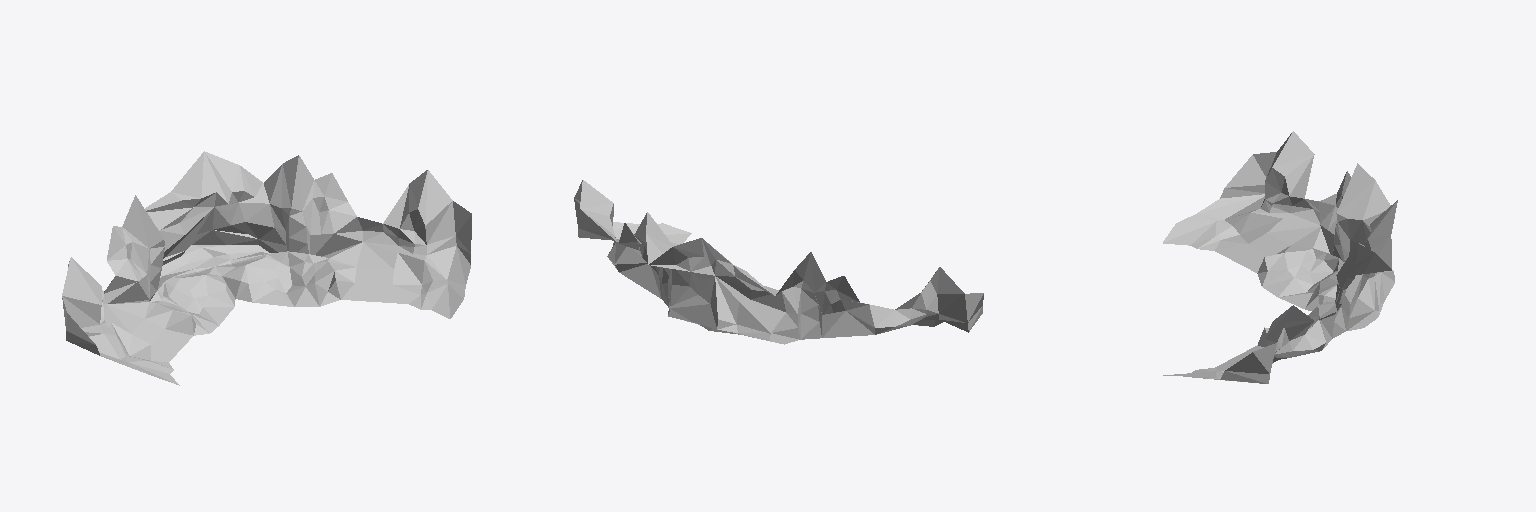
File: bakgrundsgrönska2.obj
The picture shows the model from 3 angles: view 1: azimuth 30°, elevation 25°; view 2: azimuth 150°, elevation 25°; view 3: azimuth 270°, elevation 25°; orthographic projection.
Visible parts, largest first — view 1: pPlane3; view 2: pPlane3; view 3: pPlane3.
Part boxes in pixels (left/top/right/bottom): pPlane3: left=62, top=151, right=471, bottom=385; pPlane3: left=574, top=180, right=983, bottom=344; pPlane3: left=1163, top=131, right=1397, bottom=383.
Bounding box in the file's own units: 10.09 × 2.85 × 5.1.